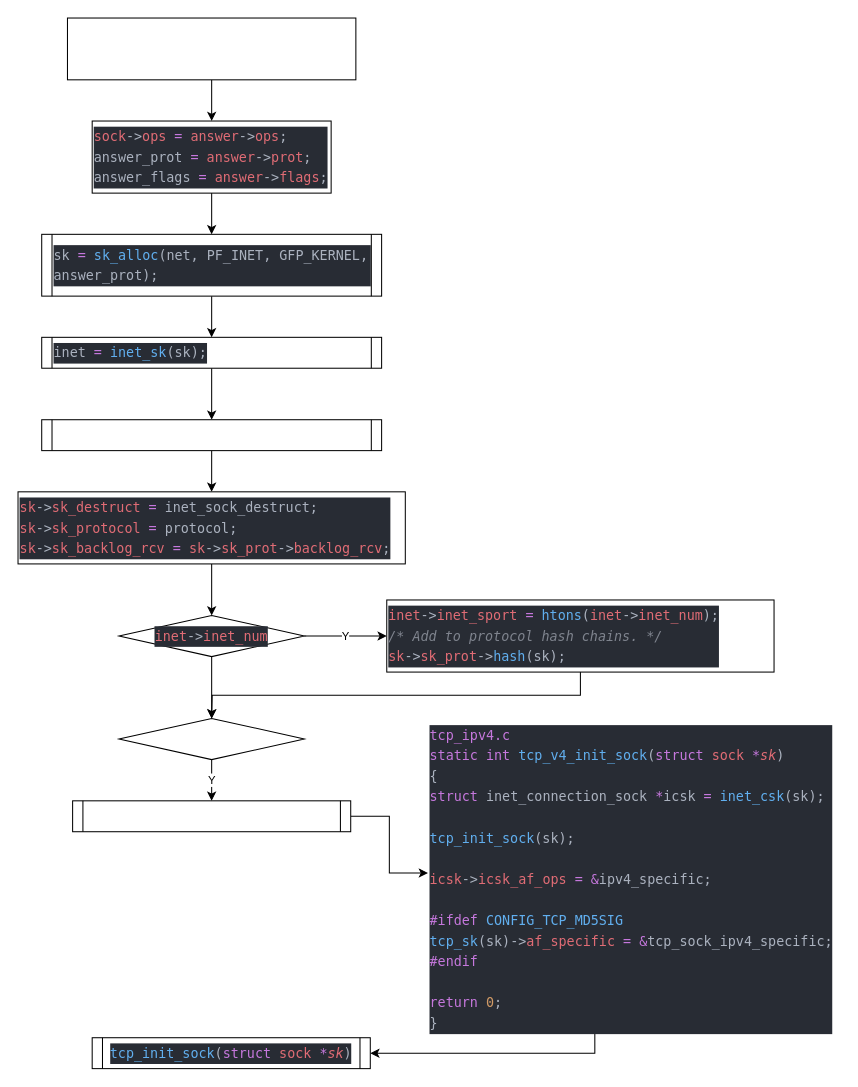
The diagram is 858 pixels wide and 1087 high, and some of its shapes have lost their labels. Each missing label, with the centre of its shape:
"err = sk -> sk_prot -> init (sk);" goes at point 211,816.
"find the answer of inet_protosw by protocol inetsw" goes at point 211,48.
"sk -> sk_prot -> init" goes at point 211,738.
"sock_init_data (sock, sk);" goes at point 211,435.
